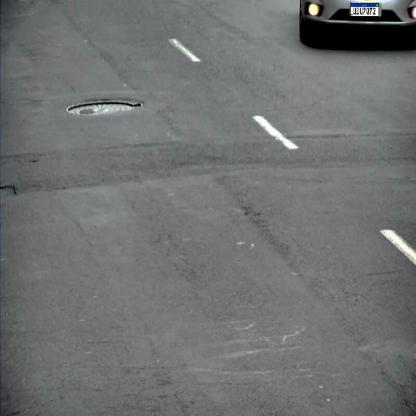PlacaM: (351, 2, 379, 16)
